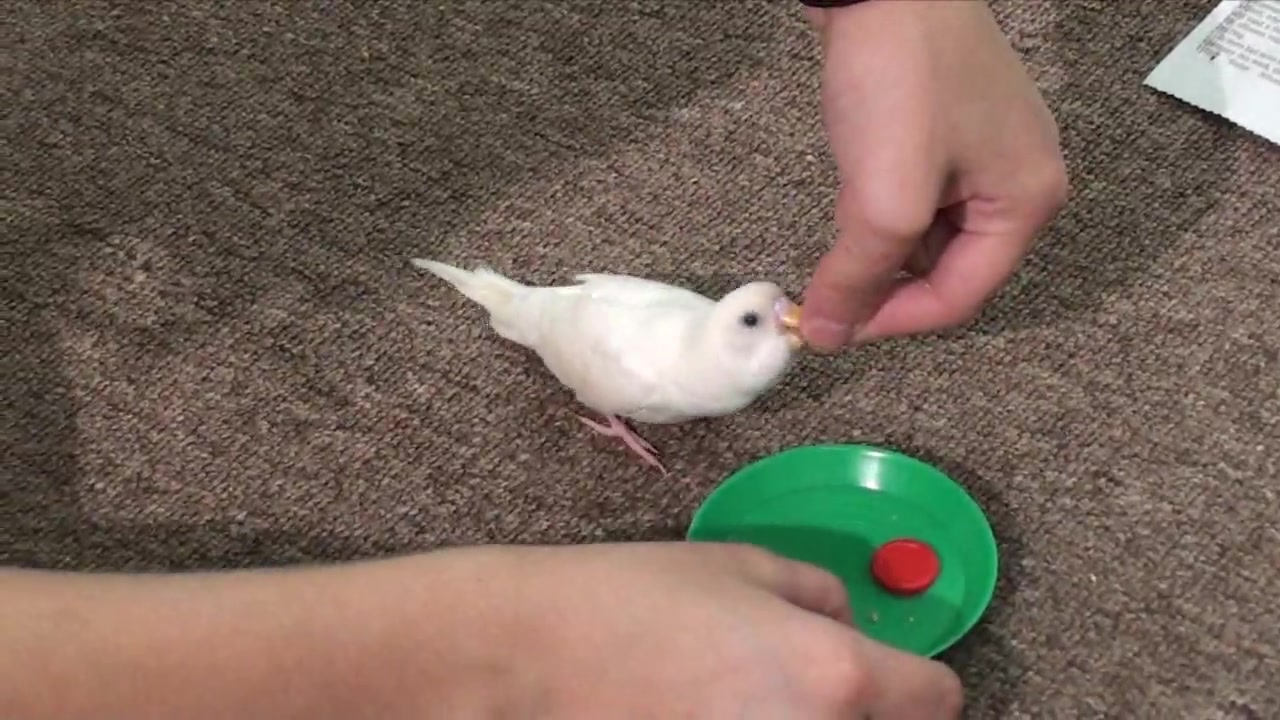bird: (413, 256, 804, 478)
